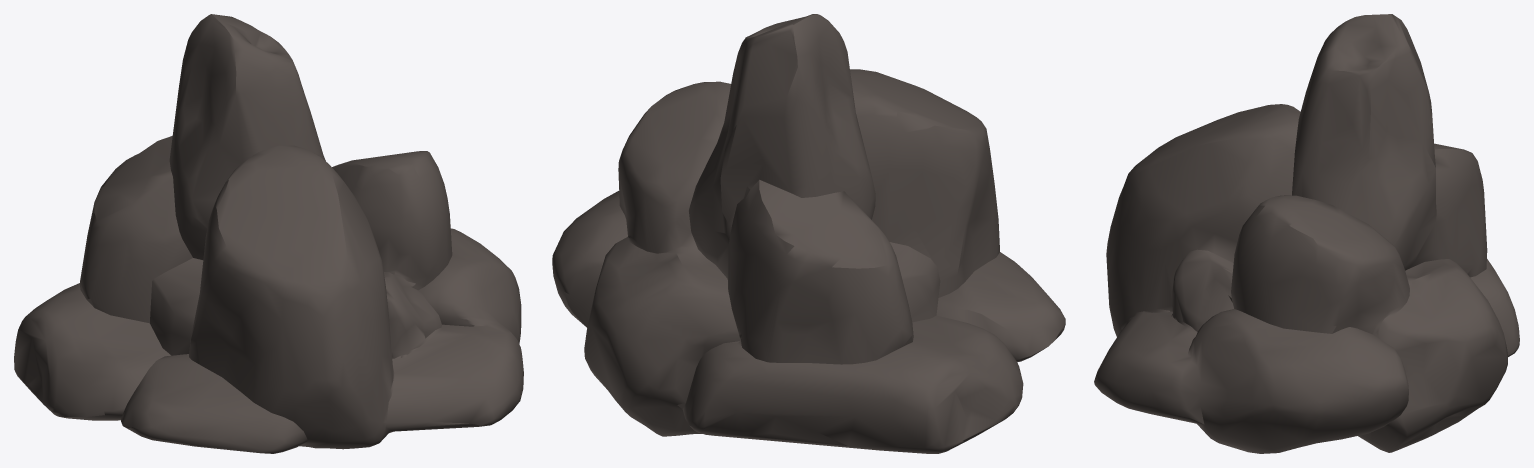
The model's file is Environment_Cliff2.medium.gltf.
3 views of the same model, side by side, from view 1: azimuth 30°, elevation 25°; view 2: azimuth 150°, elevation 25°; view 3: azimuth 270°, elevation 25° (orthographic). The views are drawn at different scales.
Parts seen in each view (by area): view 1: Environment_Cliff2; view 2: Environment_Cliff2; view 3: Environment_Cliff2.
Boxes of the visible parts, x1,y1,x2,y2 form: Environment_Cliff2: (14, 14, 523, 453); Environment_Cliff2: (552, 14, 1065, 453); Environment_Cliff2: (1094, 14, 1519, 453).
Size of the model in its own units: 8 by 6.91 by 7.11.
1 material, 1 textured.
